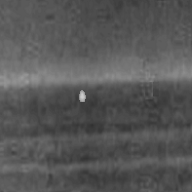Target: (78, 88, 86, 102)
